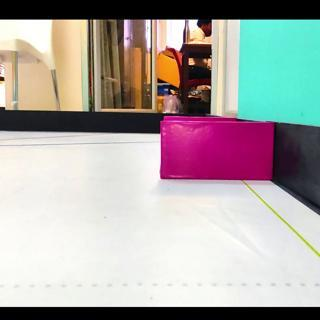xparking: (161, 122, 268, 180)
